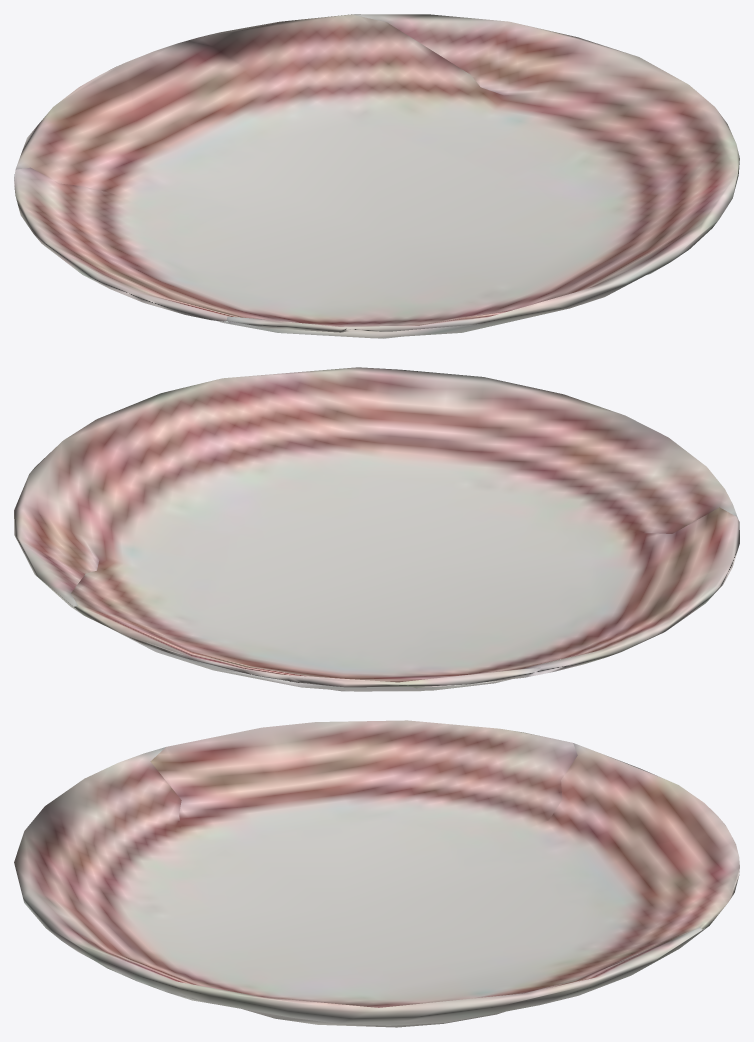
Rendered from Threshold_Bistro_Ceramic_Dinner_Plate_Ruby_Ring-medium.glb.
3 views of the same model, one above another, from view 1: azimuth 30°, elevation 25°; view 2: azimuth 150°, elevation 25°; view 3: azimuth 270°, elevation 25° (orthographic).
Parts seen in each view (by area): view 1: Threshold_Bistro_Ceramic_Dinner_Plate_Ruby_Ring; view 2: Threshold_Bistro_Ceramic_Dinner_Plate_Ruby_Ring; view 3: Threshold_Bistro_Ceramic_Dinner_Plate_Ruby_Ring.
Part boxes in pixels (x1,y1,x2,y2): Threshold_Bistro_Ceramic_Dinner_Plate_Ruby_Ring: (14, 14, 739, 338); Threshold_Bistro_Ceramic_Dinner_Plate_Ruby_Ring: (14, 367, 739, 691); Threshold_Bistro_Ceramic_Dinner_Plate_Ruby_Ring: (14, 720, 739, 1027).
Size of the model in its own units: 0.273 by 0.033 by 0.2738.
Materials: 1 (1 with a texture image).
